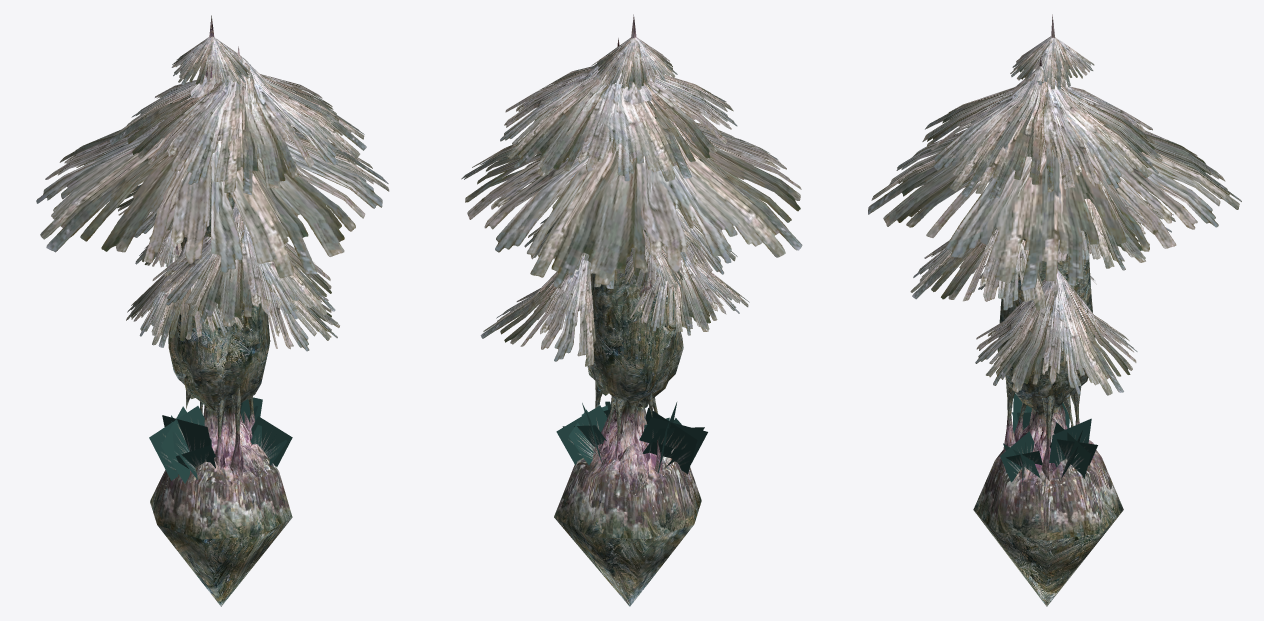
Rendered from rock_crystl_tree_med_l1.fbx.
The picture shows the model from 3 angles, left to right: view 1: azimuth 30°, elevation 25°; view 2: azimuth 150°, elevation 25°; view 3: azimuth 270°, elevation 25°; orthographic projection.
Parts seen in each view (by area): view 1: mesh_node; view 2: mesh_node; view 3: mesh_node.
Boxes of the visible parts, x1,y1,x2,y2 form: mesh_node: (36, 15, 389, 606); mesh_node: (461, 14, 802, 606); mesh_node: (868, 14, 1241, 606).
Bounding box in the file's own units: 22.56 × 37.57 × 22.56.
